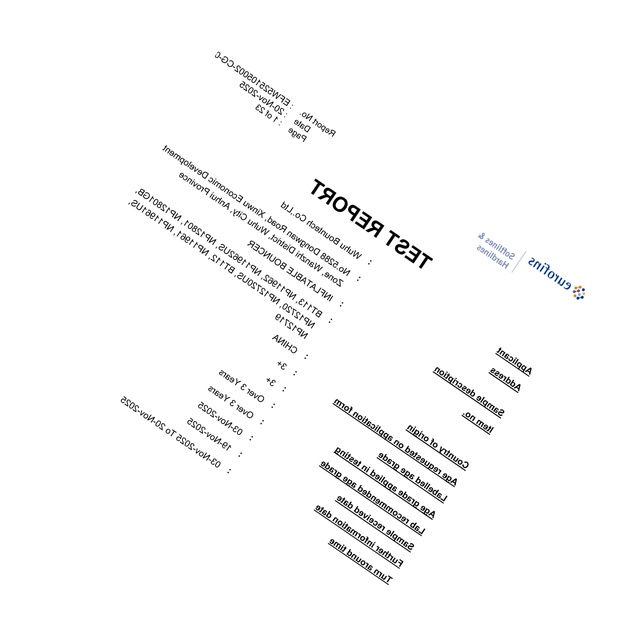eurofins: (524, 251, 588, 308)
